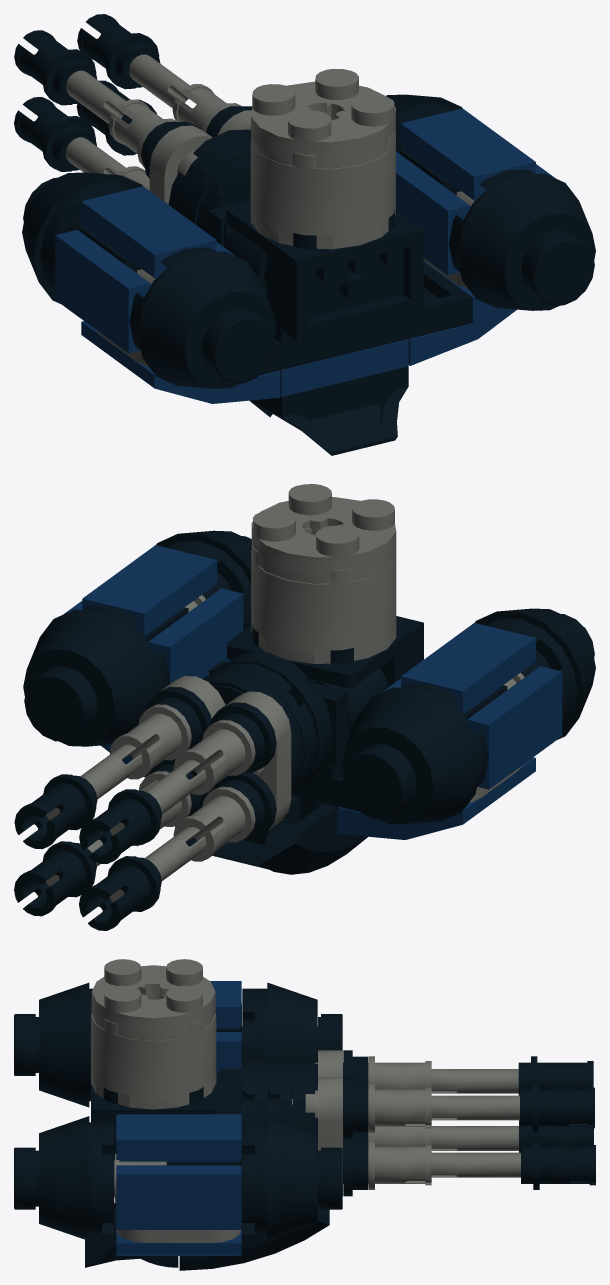
The model's file is BasicGatling.fbx.
3 renders of one model, top to bottom at view 1: azimuth 30°, elevation 25°; view 2: azimuth 150°, elevation 25°; view 3: azimuth 270°, elevation 25°, orthographic. The views are drawn at different scales.
Visible parts, largest first — view 1: BG-Brick-02, BG-Brick-13, BG-Brick-42, BG-Brick-01, BG-Brick-00, BG-Brick-48, BG-Brick-40, BG-Brick-11, BG-Brick-41, BG-Brick-14, BG-Brick-43, BG-Brick-07 (+21 smaller); view 2: BG-Brick-43, BG-Brick-01, BG-Brick-00, BG-Brick-12, BG-Brick-40, BG-Brick-11, BG-Brick-41, BG-Brick-47, BG-Brick-42, BG-Brick-07, BG-Brick-24, BG-Brick-25 (+23 smaller); view 3: BG-Brick-01, BG-Brick-13, BG-Brick-12, BG-Brick-00, BG-Brick-08, BG-Brick-11, BG-Brick-42, BG-Brick-43, BG-Brick-26, BG-Brick-25, BG-Brick-23, BG-Brick-24 (+25 smaller).
Boxes of the visible parts, x1,y1,x2,y2 form: BG-Brick-02: [226, 201, 423, 340]; BG-Brick-13: [449, 169, 595, 310]; BG-Brick-42: [129, 247, 276, 388]; BG-Brick-01: [250, 129, 395, 249]; BG-Brick-00: [251, 68, 395, 168]; BG-Brick-48: [251, 366, 408, 455]; BG-Brick-40: [55, 230, 151, 353]; BG-Brick-11: [400, 108, 535, 200]; BG-Brick-41: [81, 186, 216, 278]; BG-Brick-14: [260, 262, 471, 375]; BG-Brick-43: [22, 172, 142, 303]; BG-Brick-07: [396, 152, 470, 275]; BG-Brick-43: [342, 683, 488, 824]; BG-Brick-01: [251, 544, 396, 663]; BG-Brick-00: [251, 484, 396, 583]; BG-Brick-12: [23, 605, 169, 746]; BG-Brick-40: [466, 666, 562, 789]; BG-Brick-11: [82, 545, 217, 636]; BG-Brick-41: [401, 623, 535, 714]; BG-Brick-47: [175, 795, 367, 874]; BG-Brick-42: [474, 608, 595, 739]; BG-Brick-07: [148, 588, 243, 684]; BG-Brick-24: [109, 786, 255, 902]; BG-Brick-25: [46, 704, 191, 820]; BG-Brick-01: [91, 1014, 216, 1109]; BG-Brick-13: [39, 1116, 114, 1240]; BG-Brick-12: [242, 1116, 317, 1240]; BG-Brick-00: [91, 959, 215, 1040]; BG-Brick-08: [116, 1165, 241, 1229]; BG-Brick-11: [116, 1114, 241, 1161]; BG-Brick-42: [39, 982, 92, 1107]; BG-Brick-43: [242, 982, 317, 1098]; BG-Brick-26: [368, 1140, 520, 1189]; BG-Brick-25: [368, 1083, 519, 1132]; BG-Brick-23: [368, 1056, 518, 1093]; BG-Brick-24: [368, 1126, 518, 1150].
Size of the model in its own units: 559 by 384 by 737.
